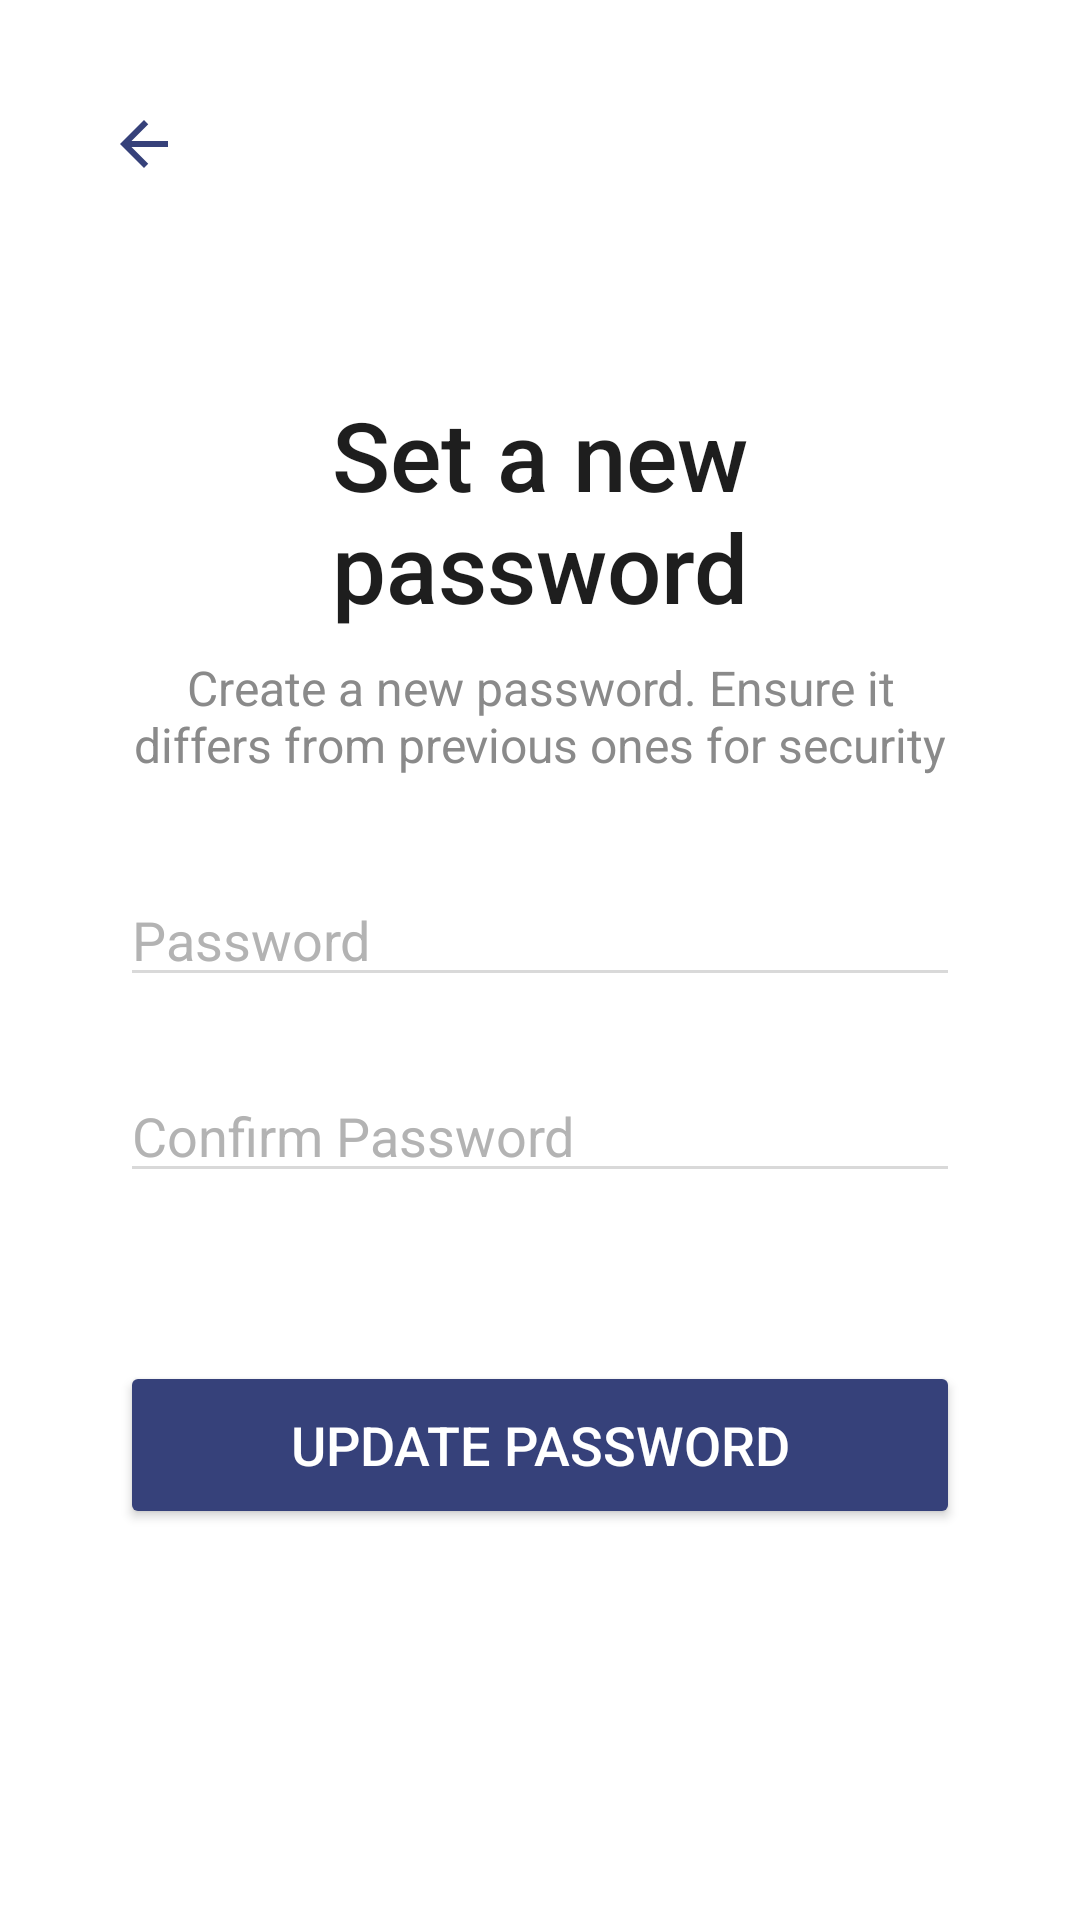

Icons on this 1080w x 1920h Android screen, each with its box as (x1, y1, x2, y2):
Navigate back: (120, 120, 168, 168)
